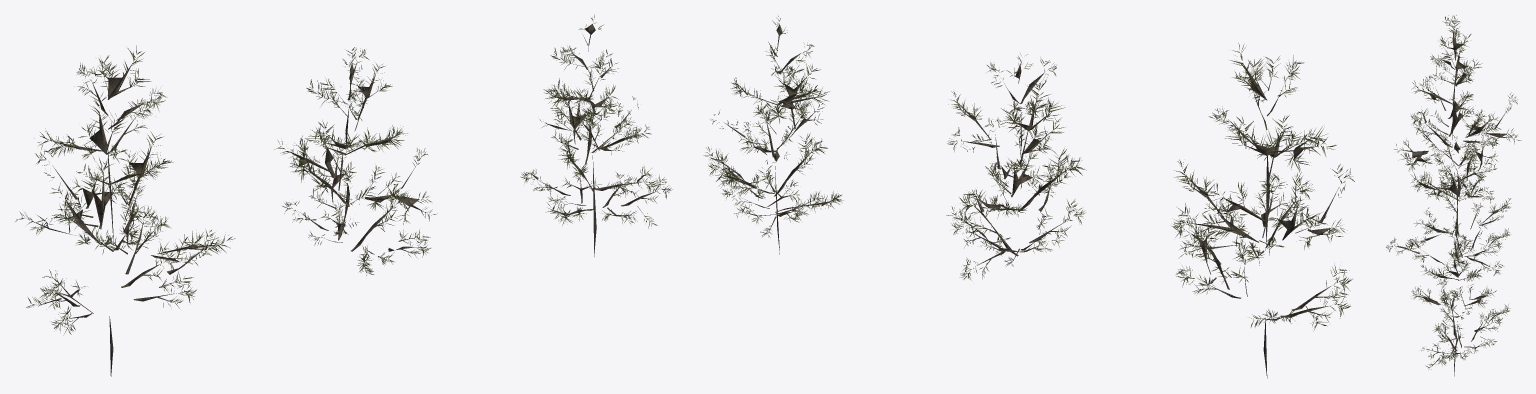
The model's file is pine_sapling_small.glb.
The picture shows the model from 3 angles, left to right: view 1: azimuth 30°, elevation 25°; view 2: azimuth 150°, elevation 25°; view 3: azimuth 270°, elevation 25°; orthographic projection. The views are drawn at different scales.
Parts seen in each view (by area): view 1: pine_sapling_small_a, pine_sapling_small_b, pine_sapling_small_c; view 2: pine_sapling_small_a, pine_sapling_small_b, pine_sapling_small_c; view 3: pine_sapling_small_a, pine_sapling_small_b, pine_sapling_small_c.
Boxes of the visible parts, box(x1,y1,x2,y2) form: pine_sapling_small_a: box(15, 45, 235, 376); pine_sapling_small_b: box(274, 47, 437, 275); pine_sapling_small_c: box(520, 14, 672, 256); pine_sapling_small_a: box(1170, 43, 1354, 378); pine_sapling_small_b: box(946, 53, 1086, 280); pine_sapling_small_c: box(703, 16, 843, 254); pine_sapling_small_a: box(1394, 15, 1521, 225); pine_sapling_small_b: box(1386, 134, 1511, 275); pine_sapling_small_c: box(1411, 227, 1510, 376).
Bounding box in the file's own units: 2.64 × 1.29 × 0.7632.
Materials: 2 (2 with a texture image).
